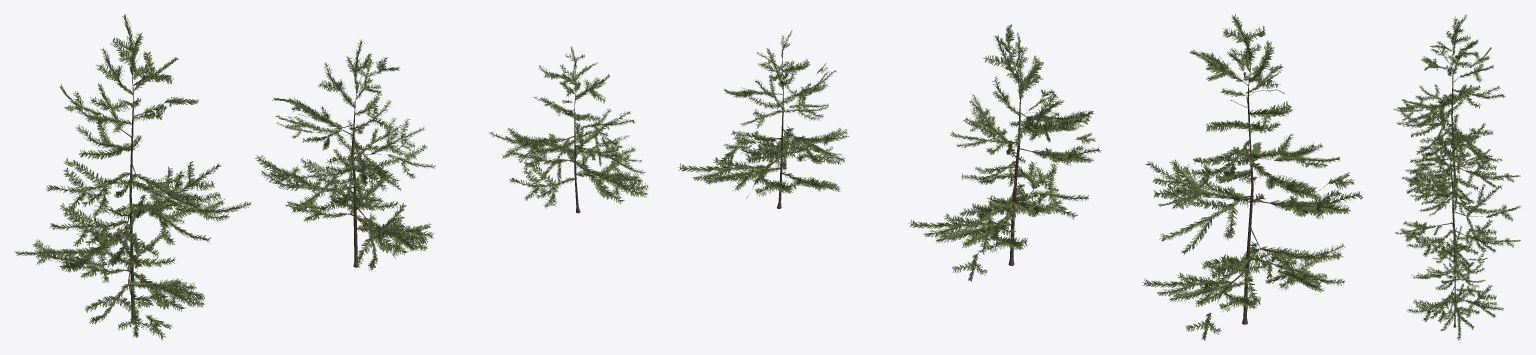
File: fir-near.glb
3 views of the same model, side by side, from view 1: azimuth 30°, elevation 25°; view 2: azimuth 150°, elevation 25°; view 3: azimuth 270°, elevation 25° (orthographic). The views are drawn at different scales.
Visible parts, largest first — view 1: fir_sapling_a; view 2: fir_sapling_a; view 3: fir_sapling_a.
Boxes of the visible parts, x1,y1,x2,y2 form: fir_sapling_a: (14, 14, 648, 340); fir_sapling_a: (677, 14, 1362, 340); fir_sapling_a: (1394, 14, 1521, 340).
Bounding box in the file's own units: 2.74 × 1.3 × 0.8259.
Materials: 2 (2 with a texture image).
